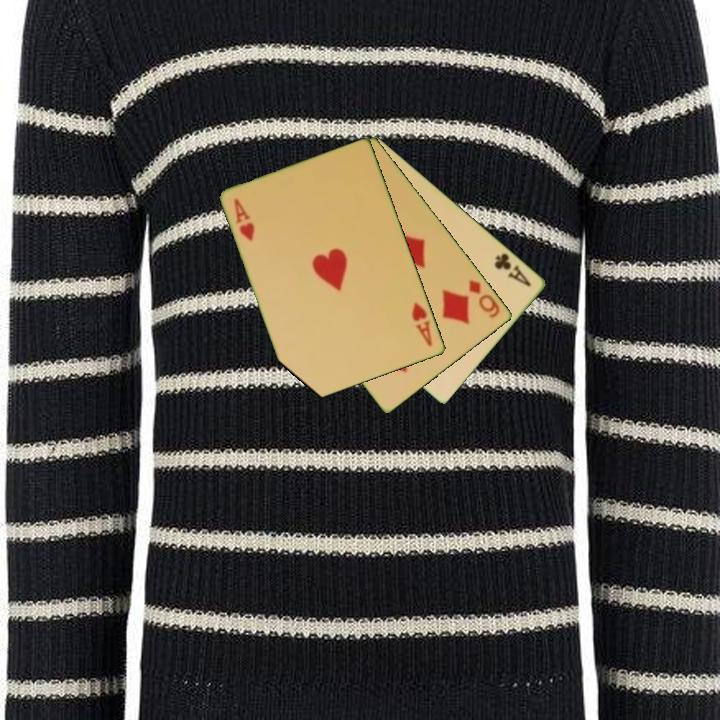6d: (465, 276, 503, 321)
Ac: (491, 249, 535, 290)
Ah: (409, 298, 436, 350), (231, 195, 258, 244)
